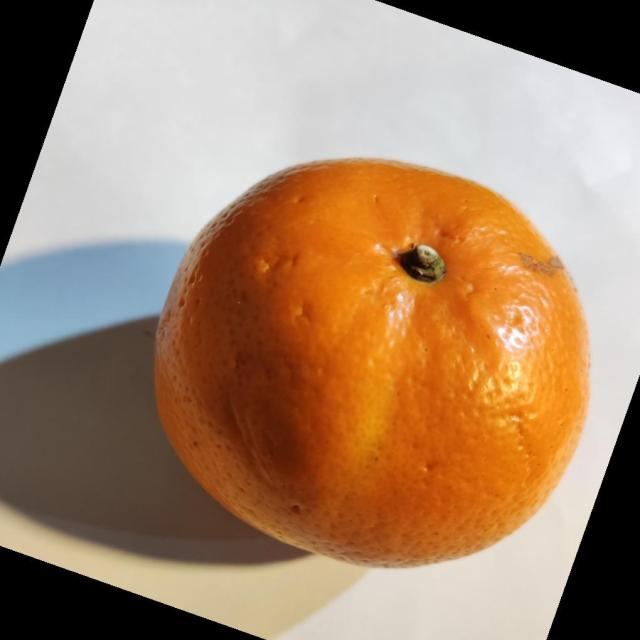fresh orange: (153, 155, 591, 569)
